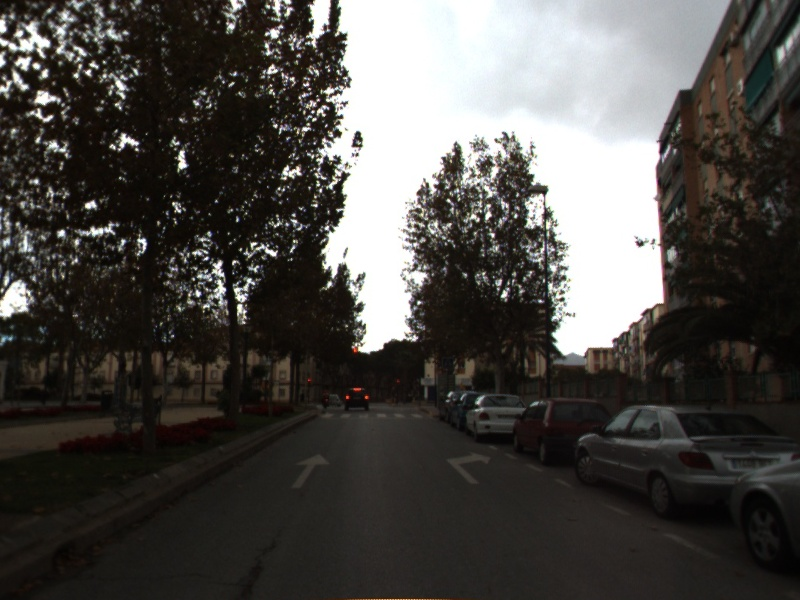RIGHT: (444, 449, 493, 486)
STRAIGHT: (290, 451, 333, 490)
